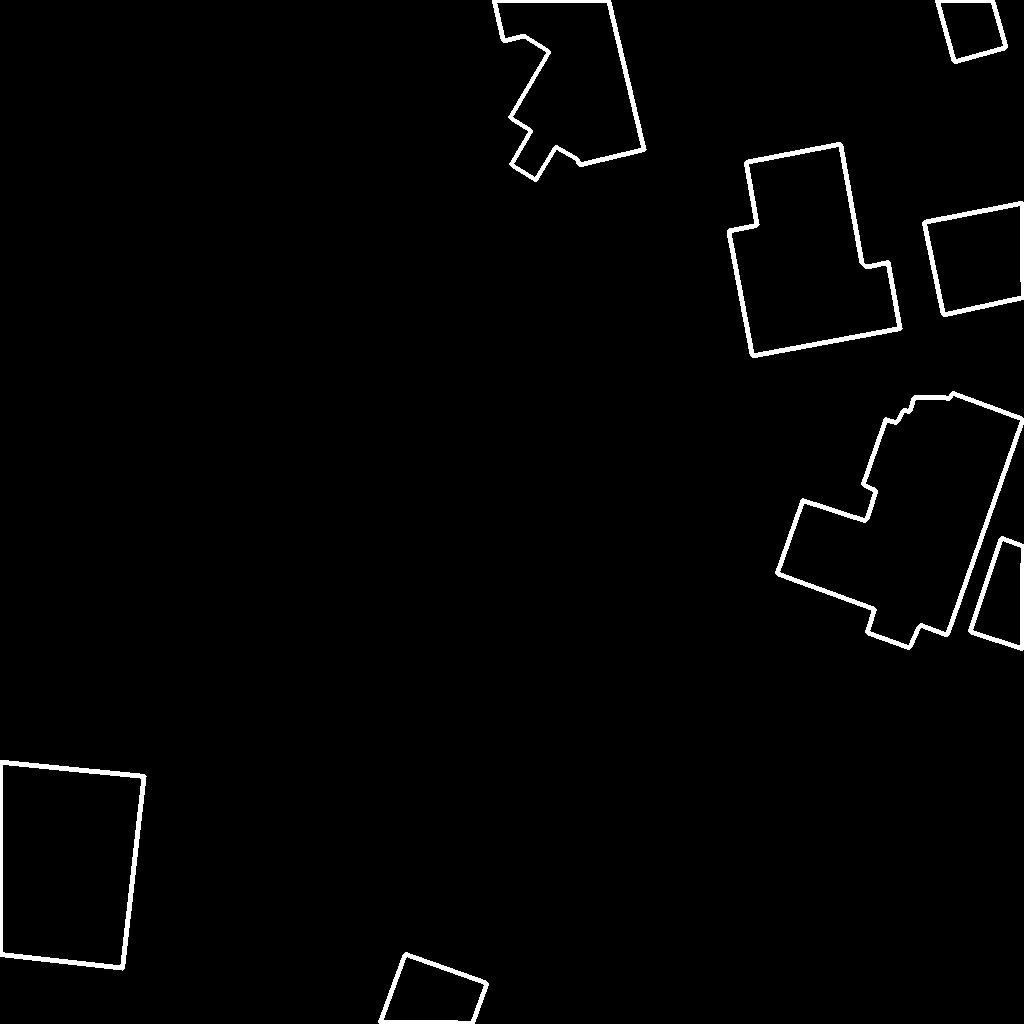building: (777, 393, 1024, 649), (729, 144, 901, 357), (0, 762, 145, 969), (494, 0, 645, 181), (924, 203, 1024, 316), (380, 954, 488, 1024), (970, 538, 1024, 650), (937, 0, 1007, 63)
